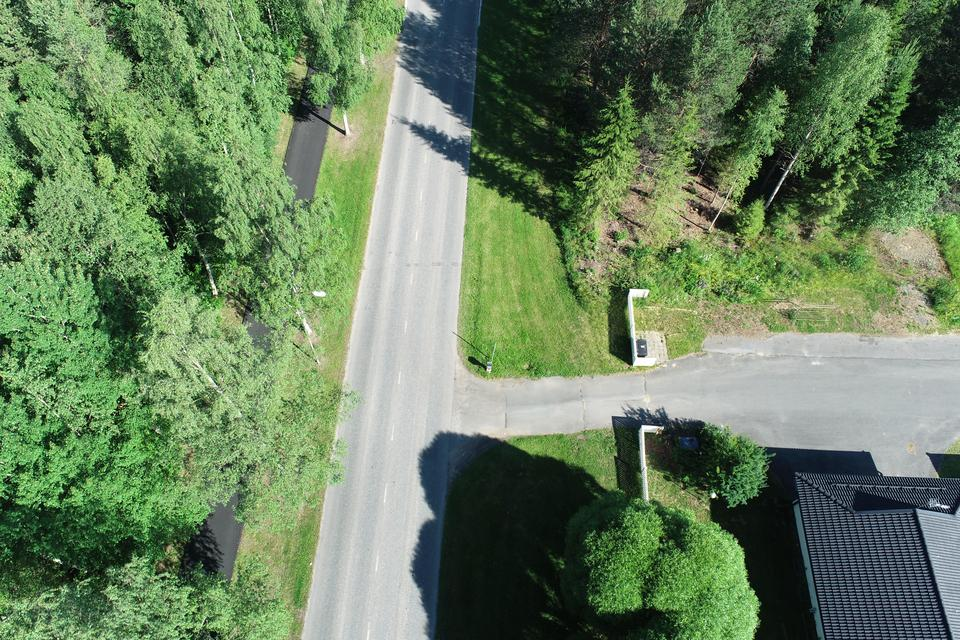intersection: (302, 322, 517, 498)
